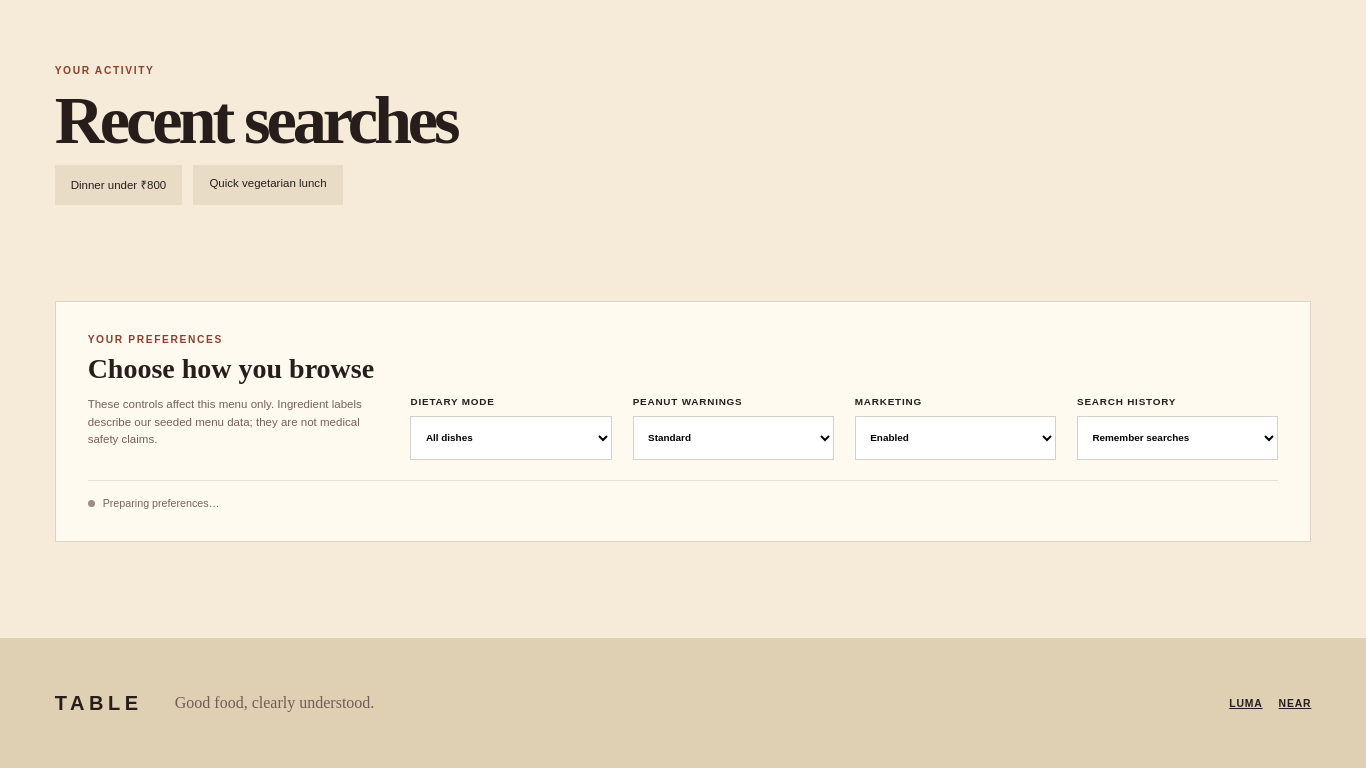
Table human experience › marketing and history controls update visible state and clear searches
The image size is (1366, 768).
(page scrolled)
Select "Disabled" in the dropdown named "Table marketing" at [956, 438], box top-left (855, 416), bottom-right (1056, 460)
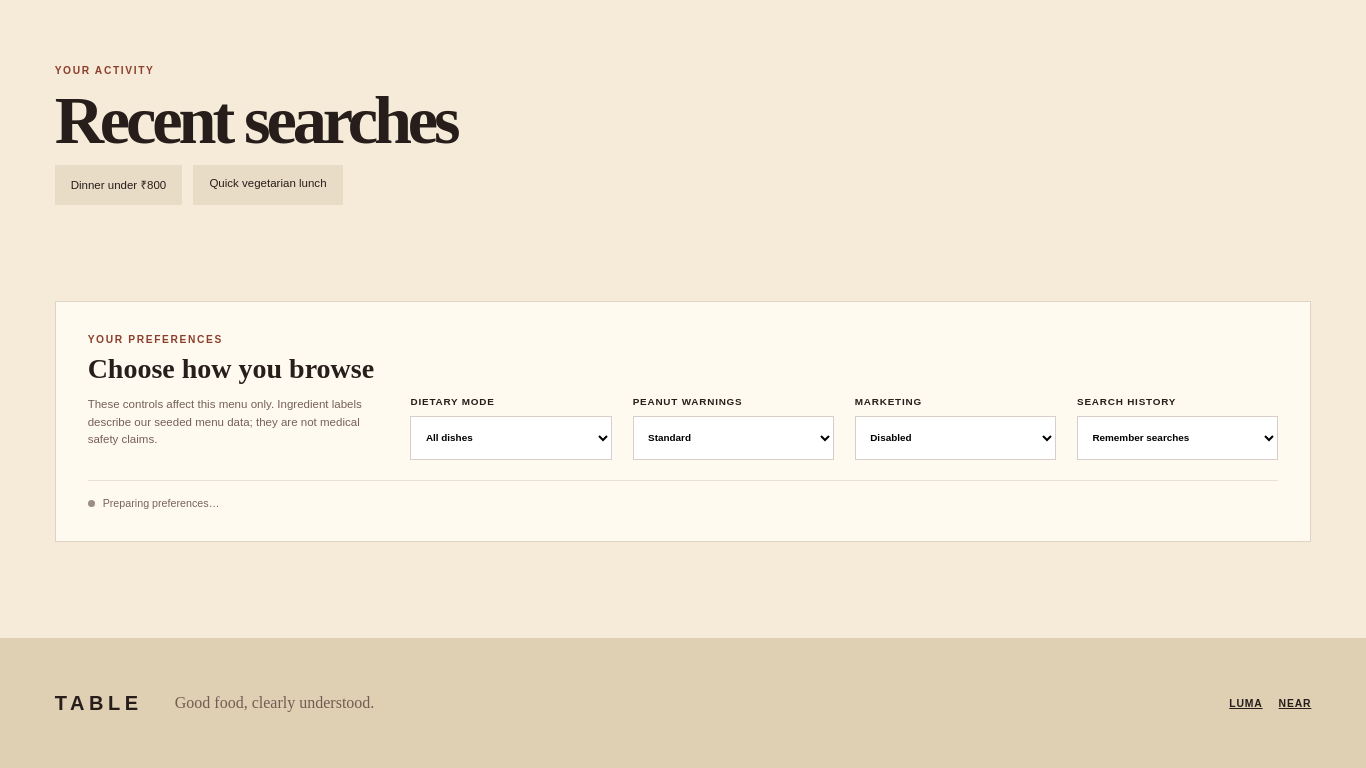
Select "Do not retain searches" in the dropdown named "Table search history" at [1178, 438], box top-left (1077, 416), bottom-right (1278, 460)
(page scrolled)
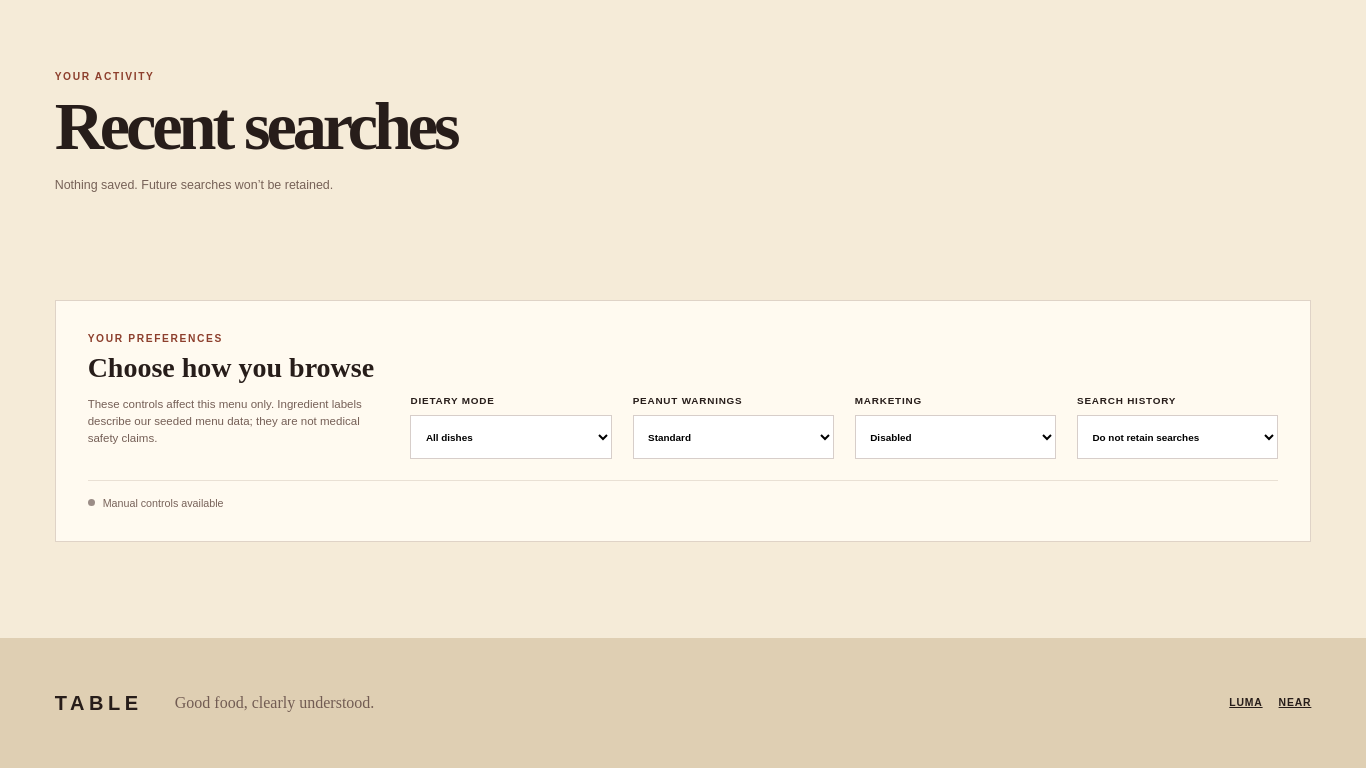
Now the text "Nothing saved. Future searches won’t be retained." is shown, box top-left (55, 178), bottom-right (333, 192)
